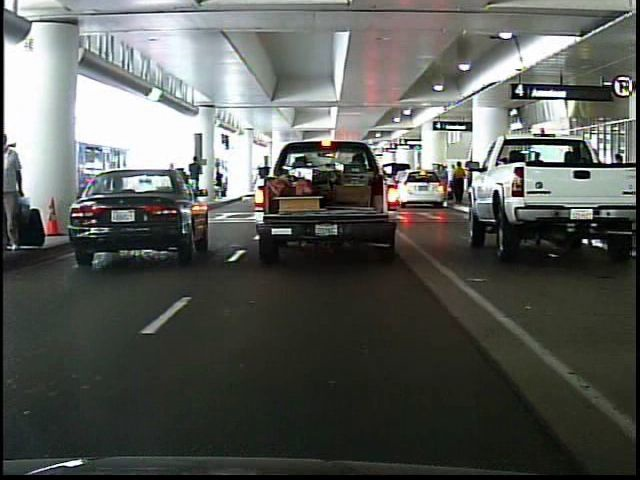person: (6, 130, 34, 250), (190, 154, 204, 184)
